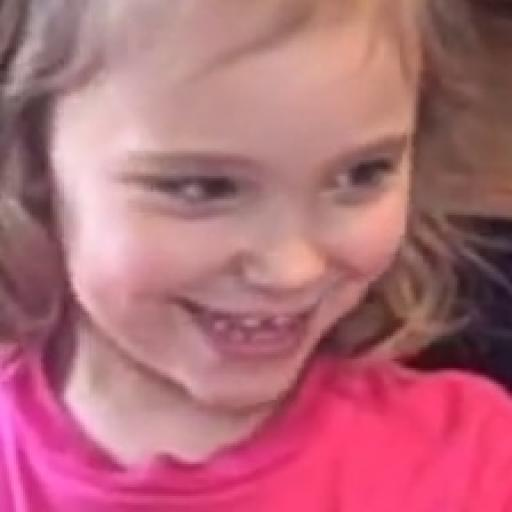Autism: (31, 0, 432, 409)
